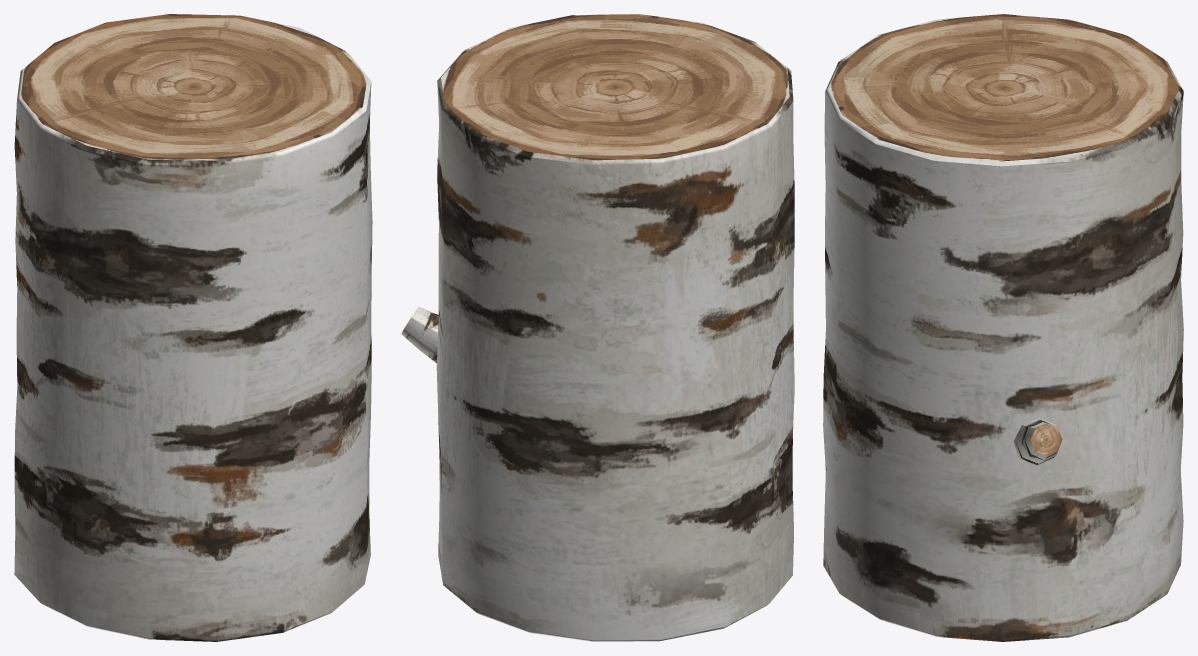
The model's file is birch_log_06.fbx.
3 renders of one model, left to right at view 1: azimuth 30°, elevation 25°; view 2: azimuth 150°, elevation 25°; view 3: azimuth 270°, elevation 25°, orthographic.
Parts seen in each view (by area): view 1: SM_Log_007; view 2: SM_Log_007; view 3: SM_Log_007.
Boxes of the visible parts, x1,y1,x2,y2 form: SM_Log_007: [14, 14, 372, 641]; SM_Log_007: [401, 14, 794, 641]; SM_Log_007: [823, 14, 1183, 641].
Size of the model in its own units: 2.85 by 3.77 by 2.56.
Materials: 2 (2 with a texture image).
